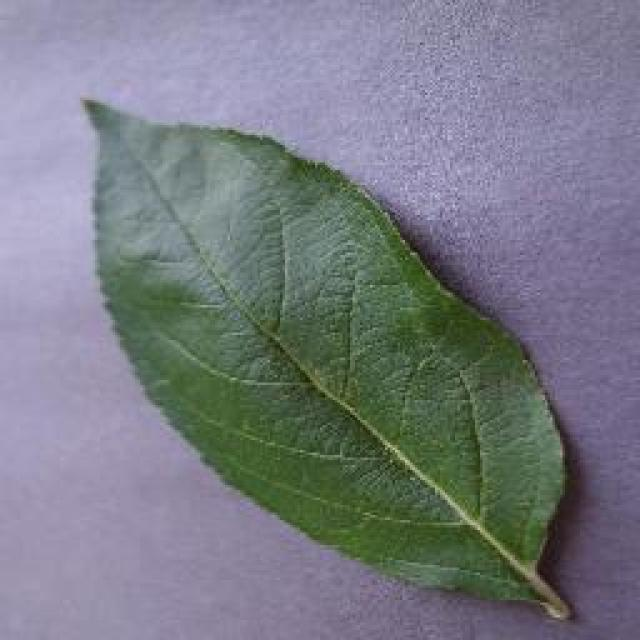apple healthy: (77, 92, 575, 620)
